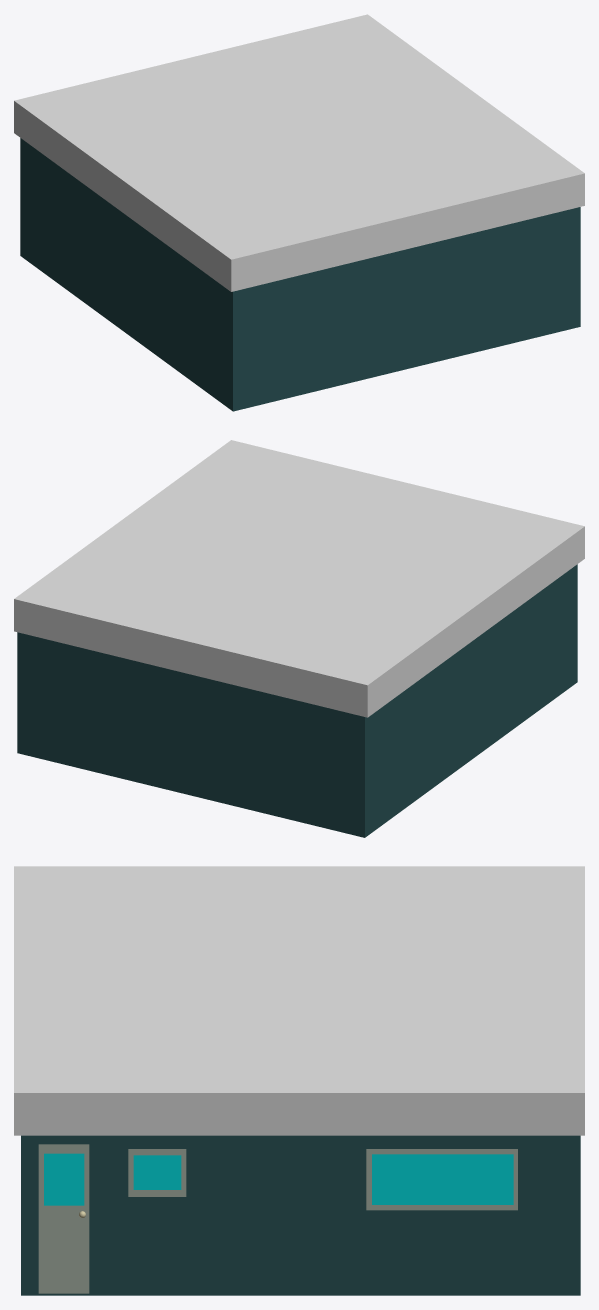
Rendered from house16.fbx.
The picture shows the model from 3 angles, top to bottom: view 1: azimuth 30°, elevation 25°; view 2: azimuth 150°, elevation 25°; view 3: azimuth 270°, elevation 25°; orthographic projection. The views are drawn at different scales.
Visible parts, largest first — view 1: house16; view 2: house16; view 3: house16.
Part boxes in pixels (x1,y1,x2,y2): house16: [14, 14, 584, 411]; house16: [14, 440, 584, 837]; house16: [14, 866, 584, 1295].
Size of the model in its own units: 295 by 123 by 312.
